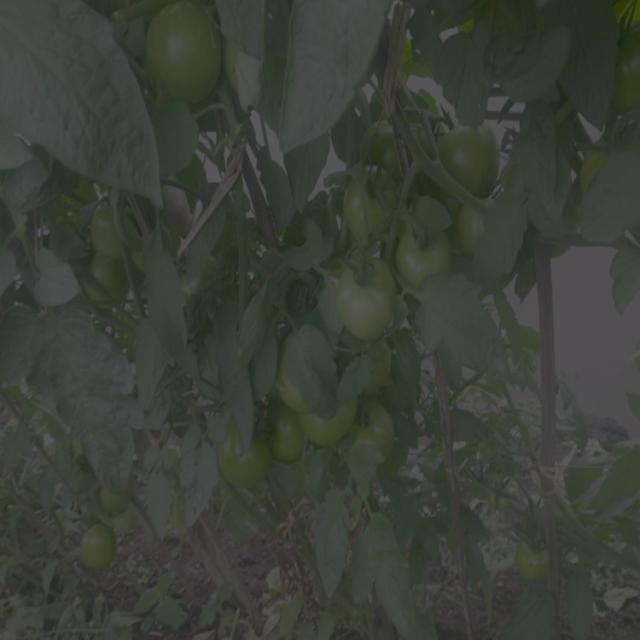tomato: (141, 7, 225, 110), (329, 251, 394, 331), (392, 198, 450, 284), (330, 168, 397, 238), (438, 121, 501, 191), (226, 438, 276, 492), (453, 186, 488, 254), (513, 526, 555, 581), (85, 200, 130, 251), (74, 524, 124, 569), (301, 406, 359, 444), (93, 256, 132, 307), (617, 38, 640, 122), (272, 408, 304, 460), (370, 399, 403, 448), (98, 483, 127, 515)
